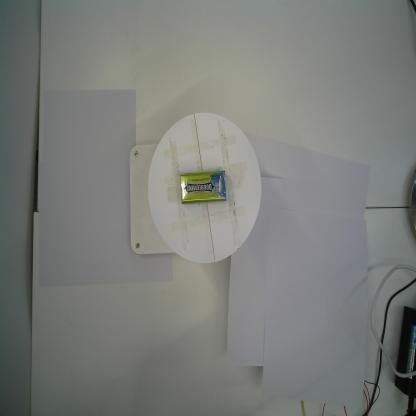Gum: (179, 170, 227, 206)
